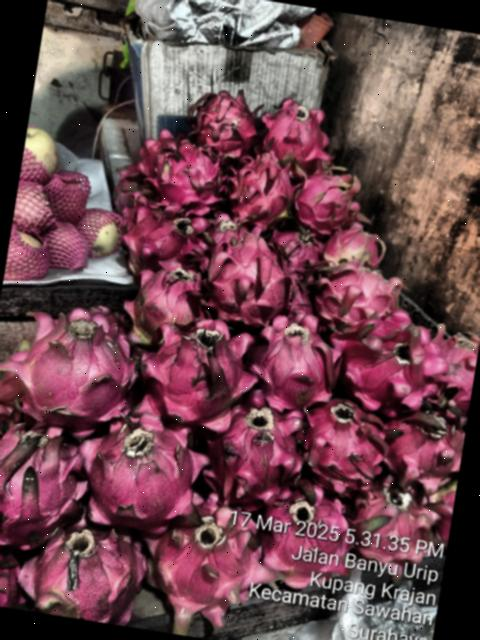buah-naga-matang: (142, 492, 288, 634), (0, 293, 141, 434), (73, 418, 214, 534), (21, 515, 151, 627), (134, 308, 257, 424), (200, 393, 314, 509), (253, 478, 360, 598), (334, 304, 444, 412), (200, 220, 306, 332), (0, 412, 86, 537), (248, 308, 347, 412), (338, 478, 440, 574), (297, 394, 393, 490), (374, 394, 468, 486), (116, 250, 202, 334), (249, 94, 336, 176), (308, 258, 398, 335), (220, 150, 306, 230), (146, 133, 226, 214), (120, 198, 208, 266), (190, 88, 266, 166), (286, 164, 365, 238), (423, 316, 480, 416), (320, 218, 390, 274), (269, 222, 324, 276), (0, 531, 31, 609), (200, 211, 250, 244)
